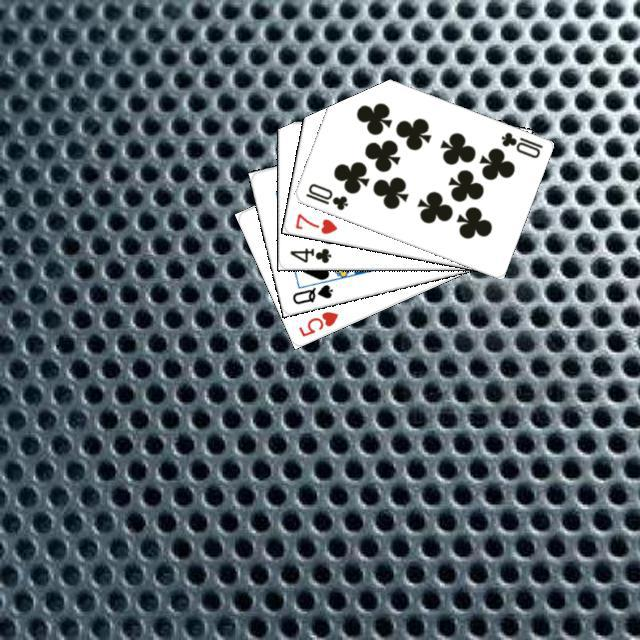10c: (301, 178, 350, 212), (496, 127, 544, 160)
4c: (285, 243, 333, 265)
5h: (293, 306, 340, 338)
7h: (290, 208, 339, 236)
Qs: (287, 280, 334, 306)
